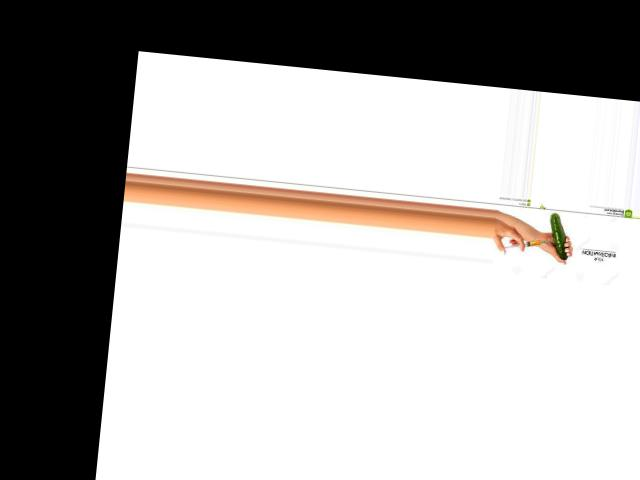cucumber: (545, 212, 571, 260)
